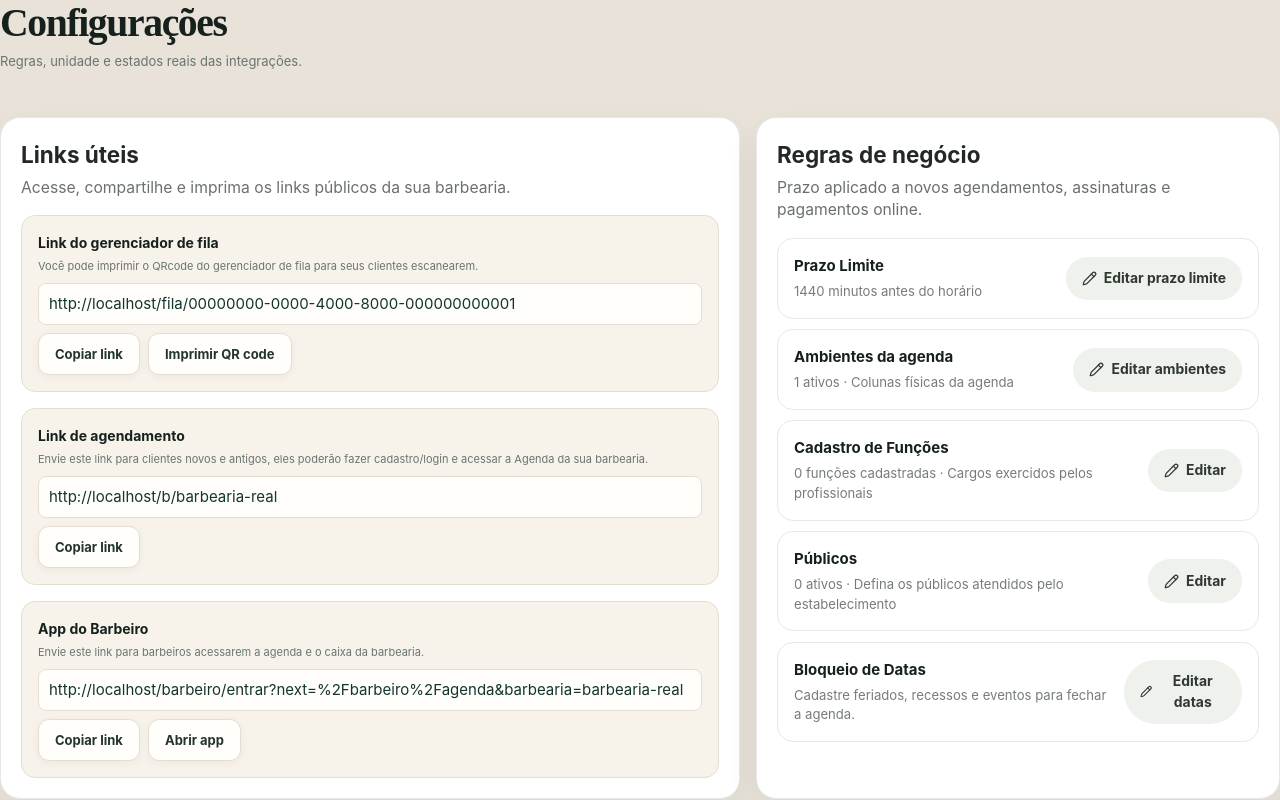
Test case: connected manager UI › abre os ambientes da agenda em um modal de edição separado
The width and height of the screenshot is (1280, 800).
Check: the field labelled "Nome do novo ambiente" is not shown
What coordinates should you click on to do the following:
click the button with aria-label "Editar ambientes da agenda"
I would click on:
 (1158, 370)
Its box is top-left (1073, 348), bottom-right (1242, 392).
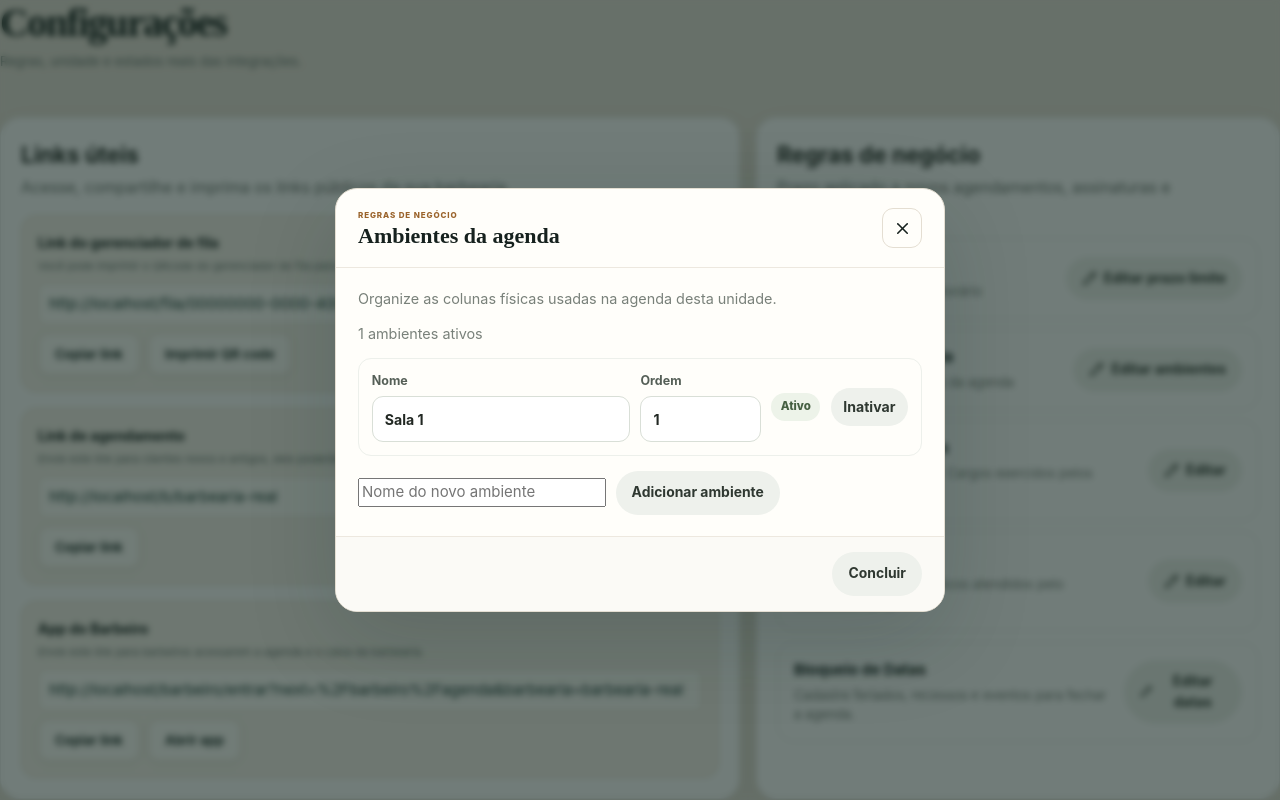
Check: the field labelled "Nome do novo ambiente" is shown, box top-left (358, 478), bottom-right (606, 507)
Check: the field showing "Sala 1" is shown, box top-left (372, 396), bottom-right (630, 442)
